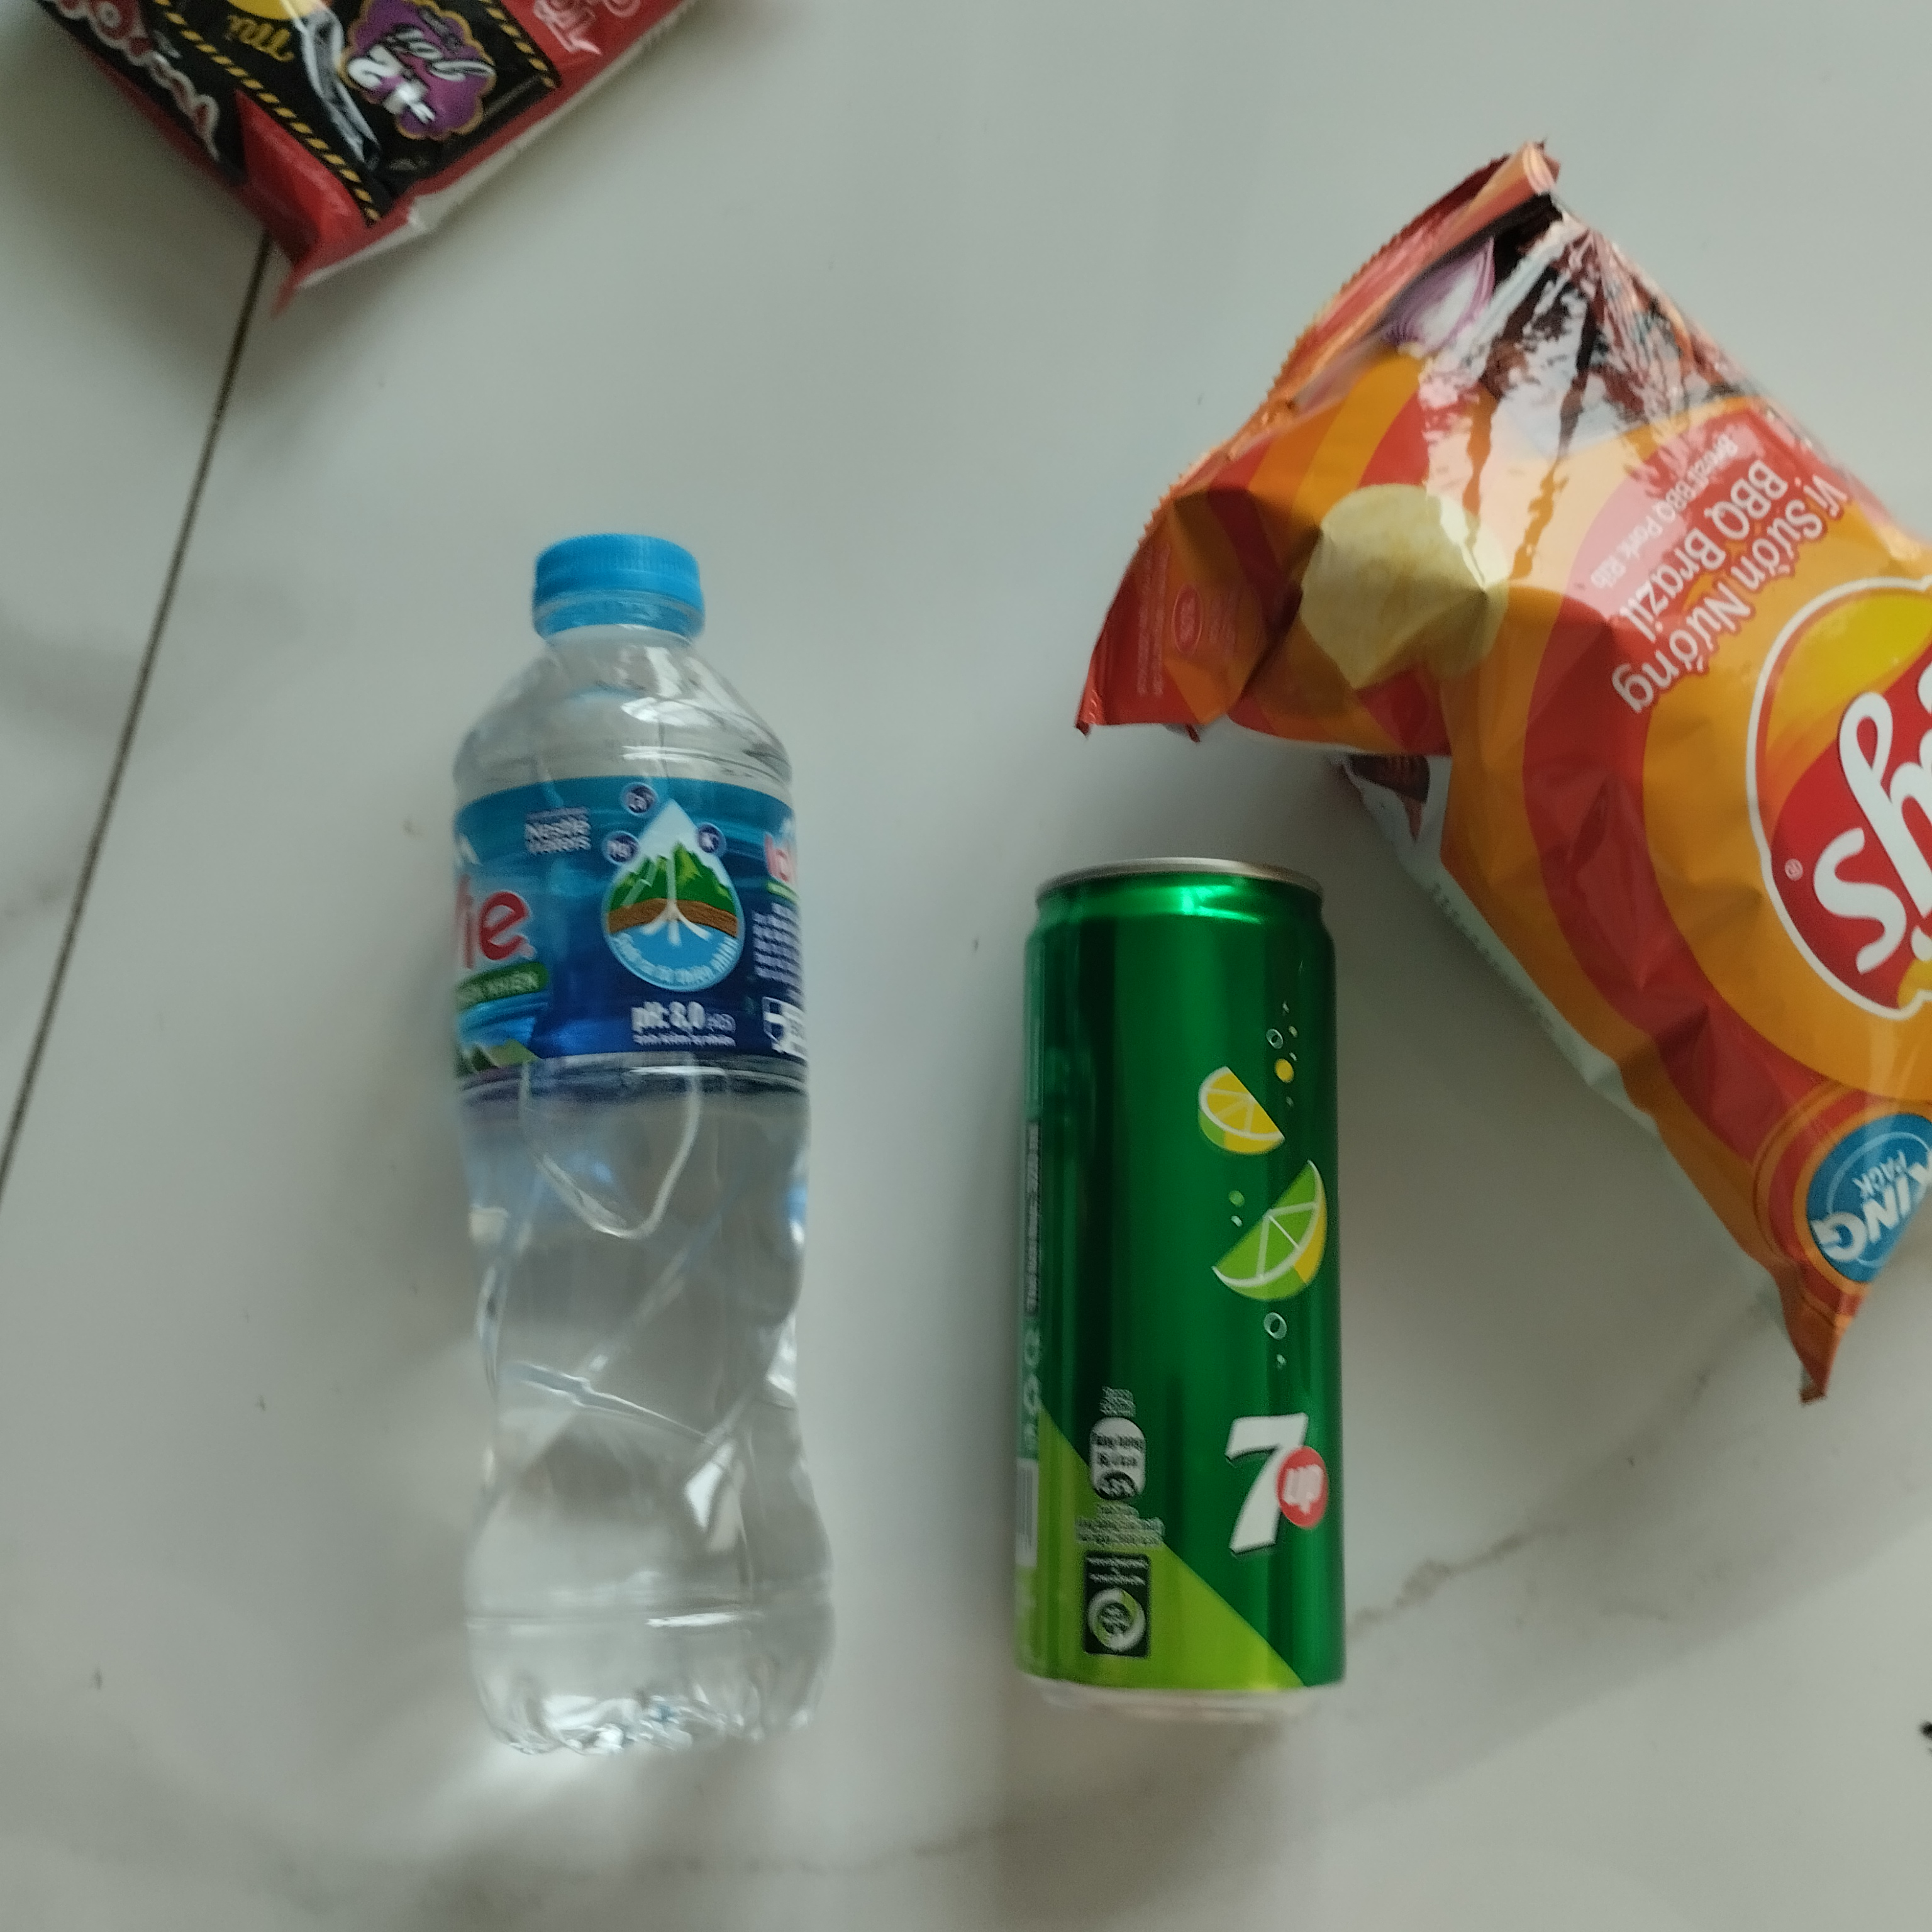7up: (984, 855, 1368, 1732)
Lavie: (430, 520, 849, 1769)
Lays: (1049, 122, 1932, 1424)
